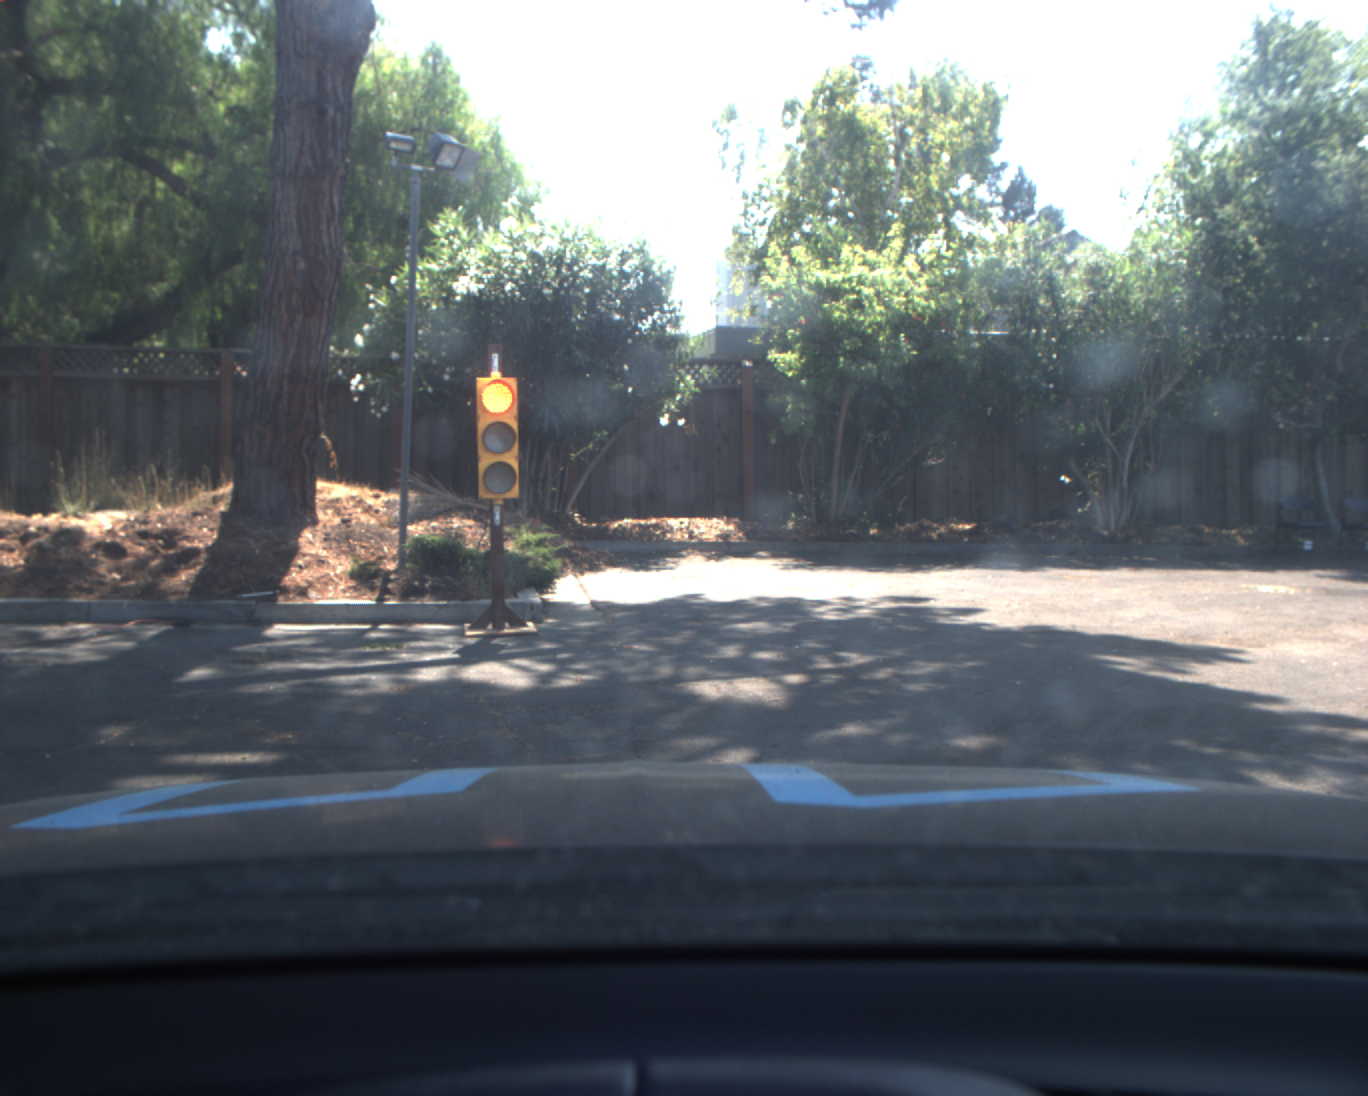red: (472, 374, 522, 502)
